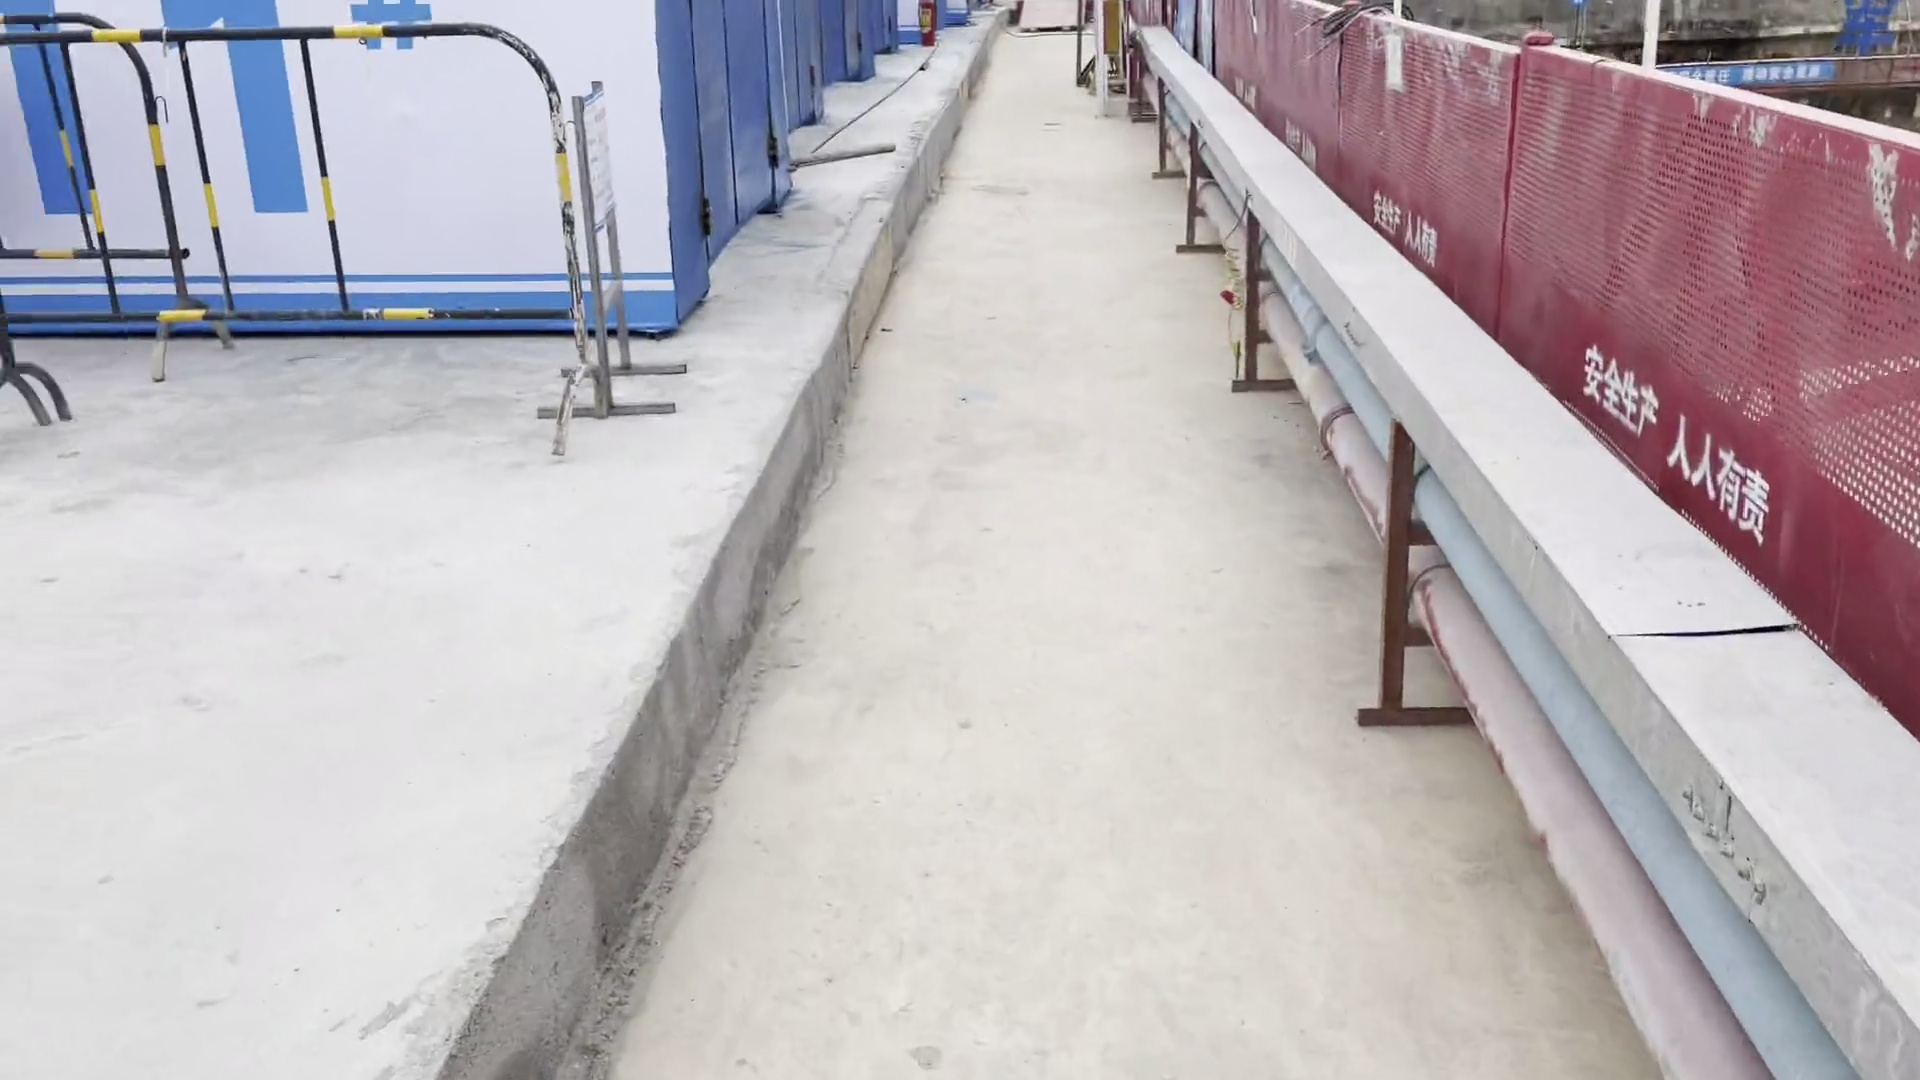fence: (1172, 3, 1920, 744), (1, 15, 584, 497)
slogan: (554, 65, 633, 264), (1668, 51, 1876, 92)
